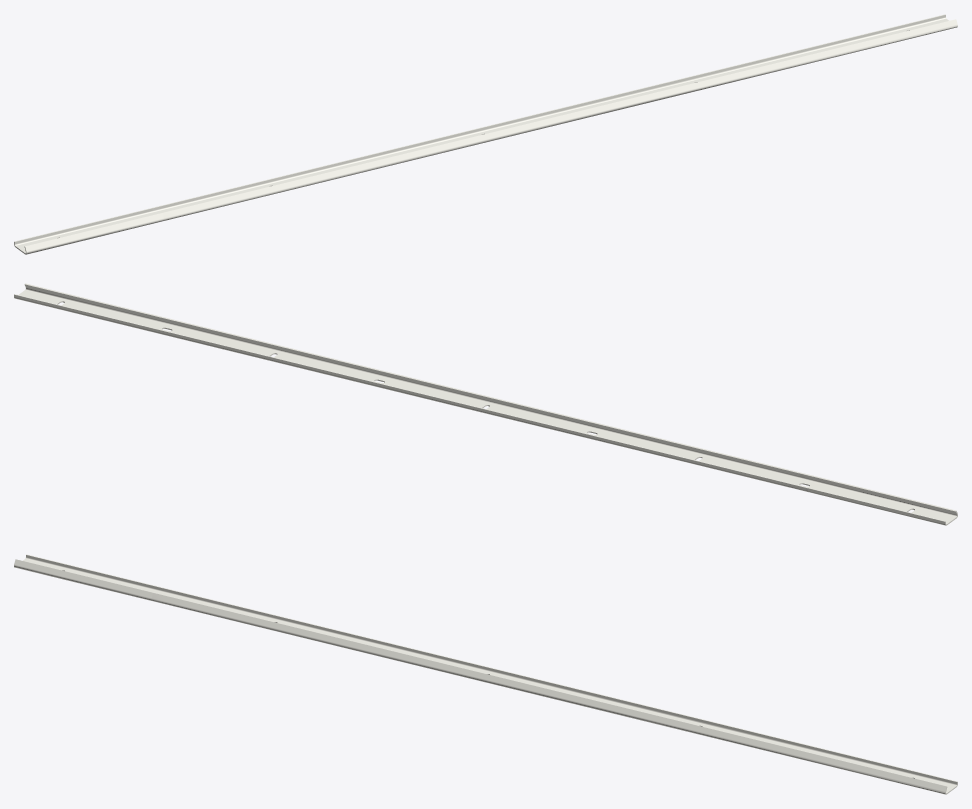
The model's file is 25 - BOAXEL - 安裝桿, 白色, 82 公分 IKEA 線上購物.glb.
3 views of the same model, one above another, from view 1: azimuth 30°, elevation 25°; view 2: azimuth 150°, elevation 25°; view 3: azimuth 330°, elevation 25° (orthographic).
Visible parts, largest first — view 1: 10448740-BOAXEL001; view 2: 10448740-BOAXEL001; view 3: 10448740-BOAXEL001.
Part boxes in pixels (x1,y1,x2,y2): 10448740-BOAXEL001: [14, 14, 957, 254]; 10448740-BOAXEL001: [14, 283, 957, 525]; 10448740-BOAXEL001: [14, 554, 957, 794].
Size of the model in its own units: 0.8241 by 0.00674 by 0.0195.
Materials: 1 (1 with a texture image).
